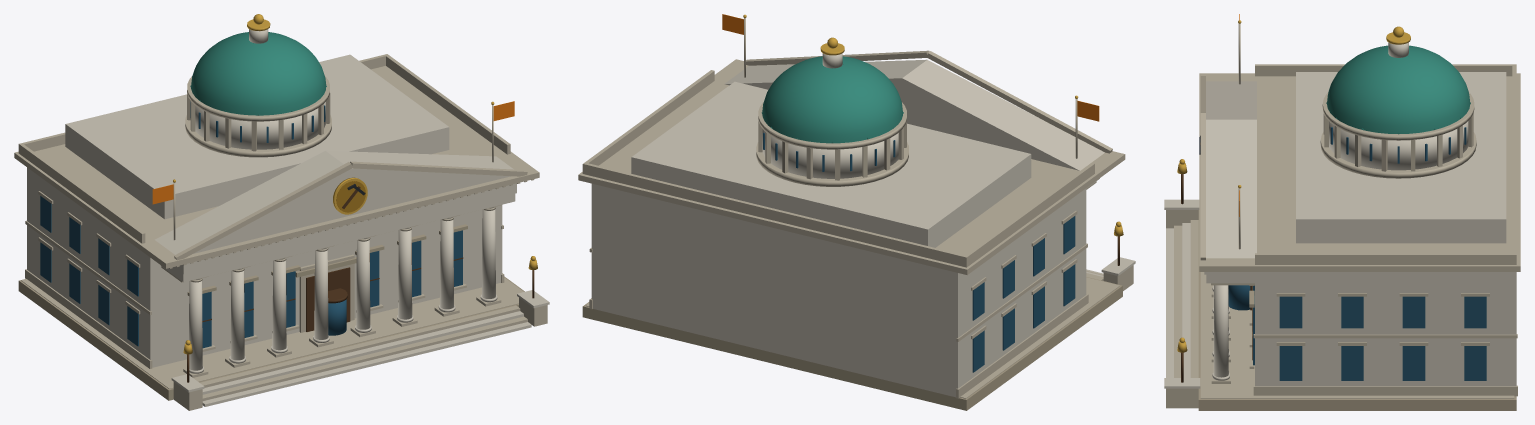
The model's file is bank.glb.
3 views of the same model, side by side, from view 1: azimuth 30°, elevation 25°; view 2: azimuth 150°, elevation 25°; view 3: azimuth 270°, elevation 25° (orthographic). The views are drawn at different scales.
Parts seen in each view (by area): view 1: bank_hall; view 2: bank_hall; view 3: bank_hall.
Part boxes in pixels (x1,y1,x2,y2): bank_hall: [14, 14, 549, 410]; bank_hall: [578, 14, 1135, 410]; bank_hall: [1164, 14, 1520, 410].
Size of the model in its own units: 44.6 by 31.07 by 34.75.
